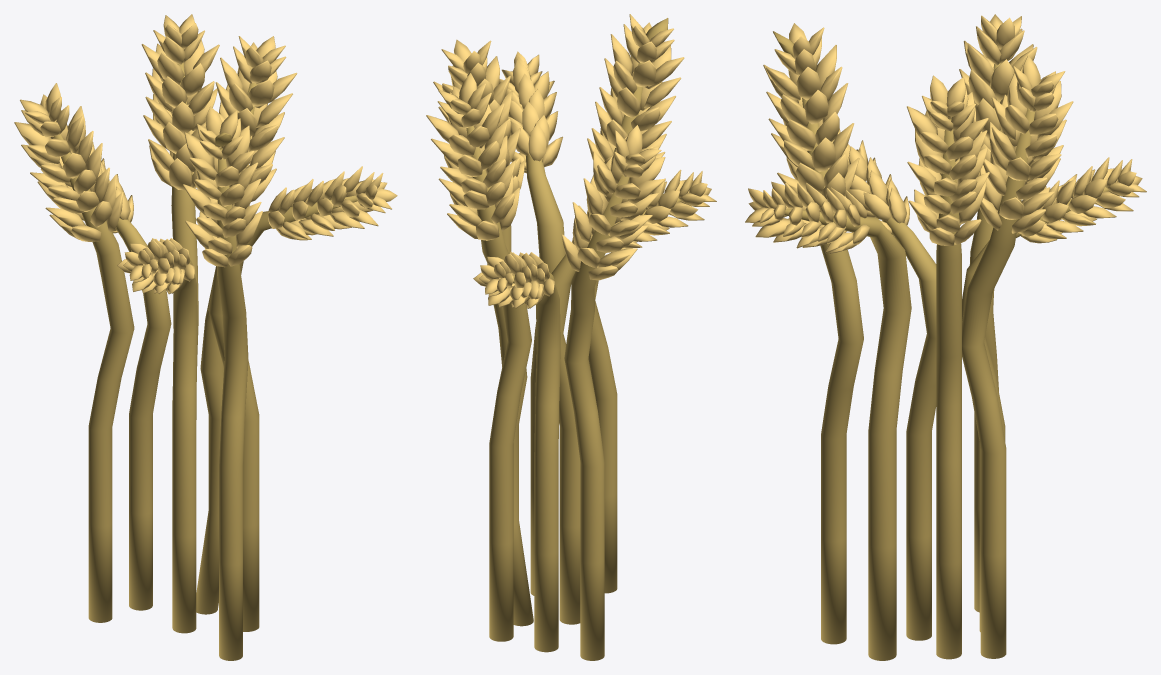
The model's file is Wheat.fbx.
3 views of the same model, side by side, from view 1: azimuth 30°, elevation 25°; view 2: azimuth 150°, elevation 25°; view 3: azimuth 270°, elevation 25° (orthographic). The views are drawn at different scales.
Visible parts, largest first — view 1: Cube.007; view 2: Cube.007; view 3: Cube.007.
Part boxes in pixels (box(x1,y1,x2,y2)): Cube.007: box(14, 14, 397, 660); Cube.007: box(426, 14, 716, 660); Cube.007: box(745, 14, 1146, 660).
Size of the model in its own units: 73.62 by 149 by 90.76.
